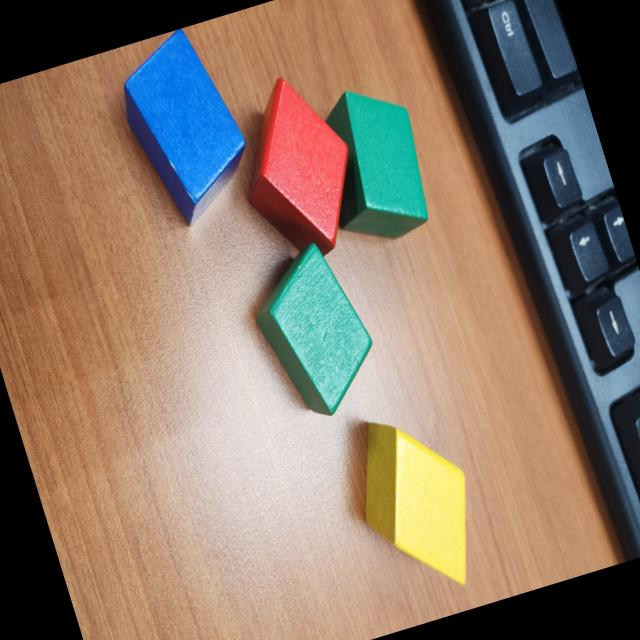blue: (106, 20, 266, 236)
green: (236, 231, 392, 429), (300, 71, 443, 254)
red: (214, 62, 380, 270)
yellow: (336, 398, 497, 608)
